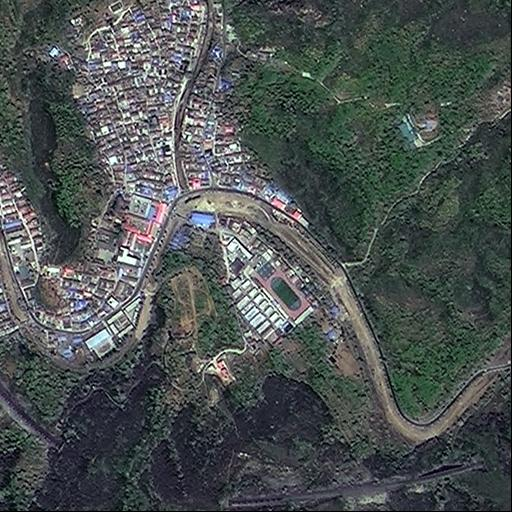school: (219, 227, 320, 343)
